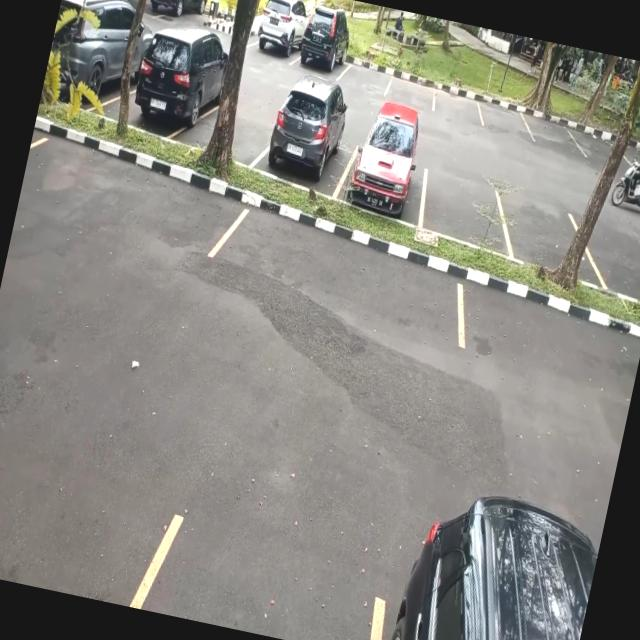car: (121, 38, 226, 148), (337, 115, 436, 222), (256, 85, 355, 190), (249, 1, 309, 66), (293, 22, 352, 80)
free: (202, 200, 480, 351), (493, 190, 600, 276), (412, 168, 510, 247), (585, 225, 640, 301), (524, 103, 587, 152), (474, 94, 534, 140), (340, 46, 394, 96), (428, 80, 485, 126), (384, 68, 441, 108)
